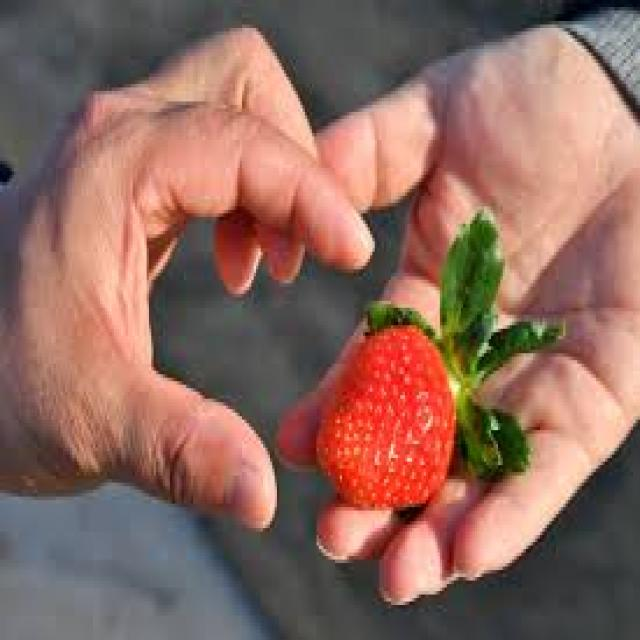mature: (316, 323, 456, 511)
